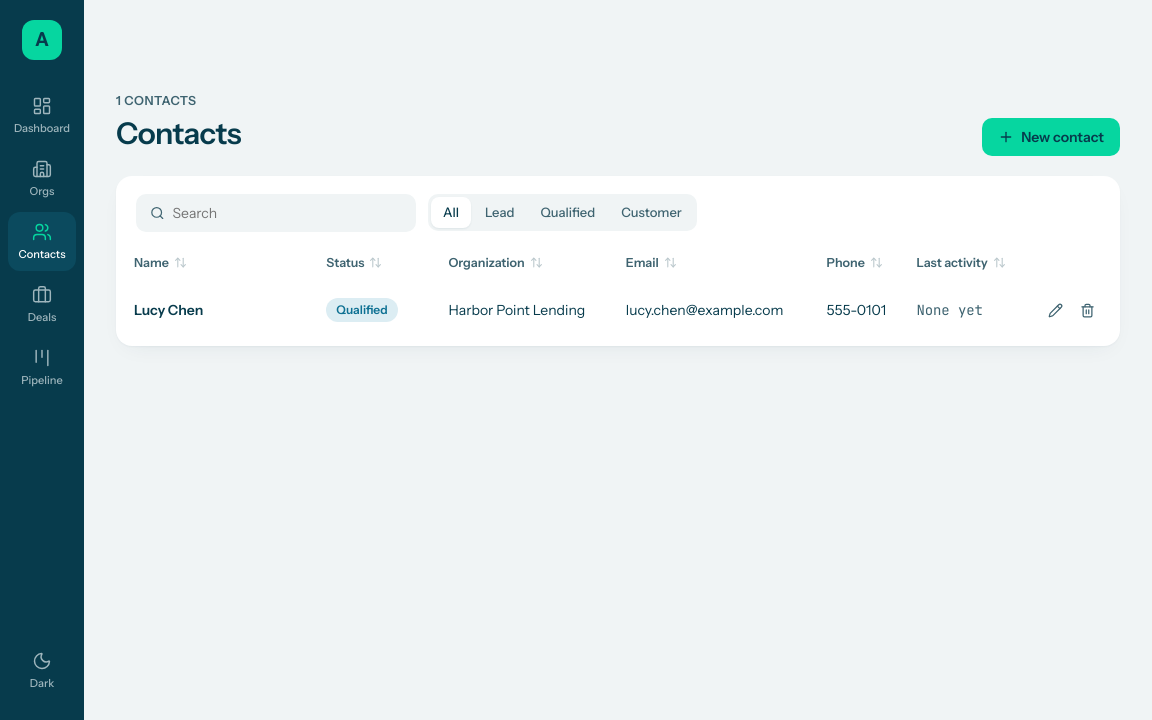
Scenario: the contacts list › tells you when a delete fails
Click the button named "Delete Lucy Chen": (1087, 310) [1072,295,1102,325]
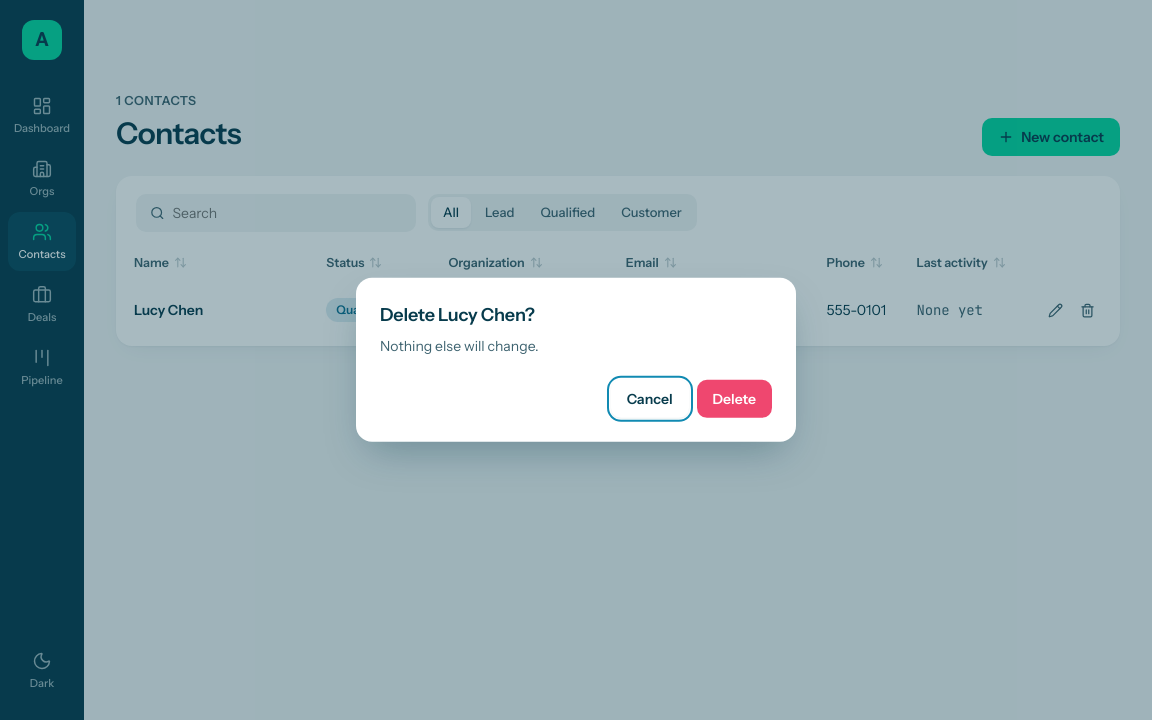
Check: the text "Nothing else will change." is shown, box [380,337,538,355]
Click the button "Delete": (734, 399) [696,380,772,418]
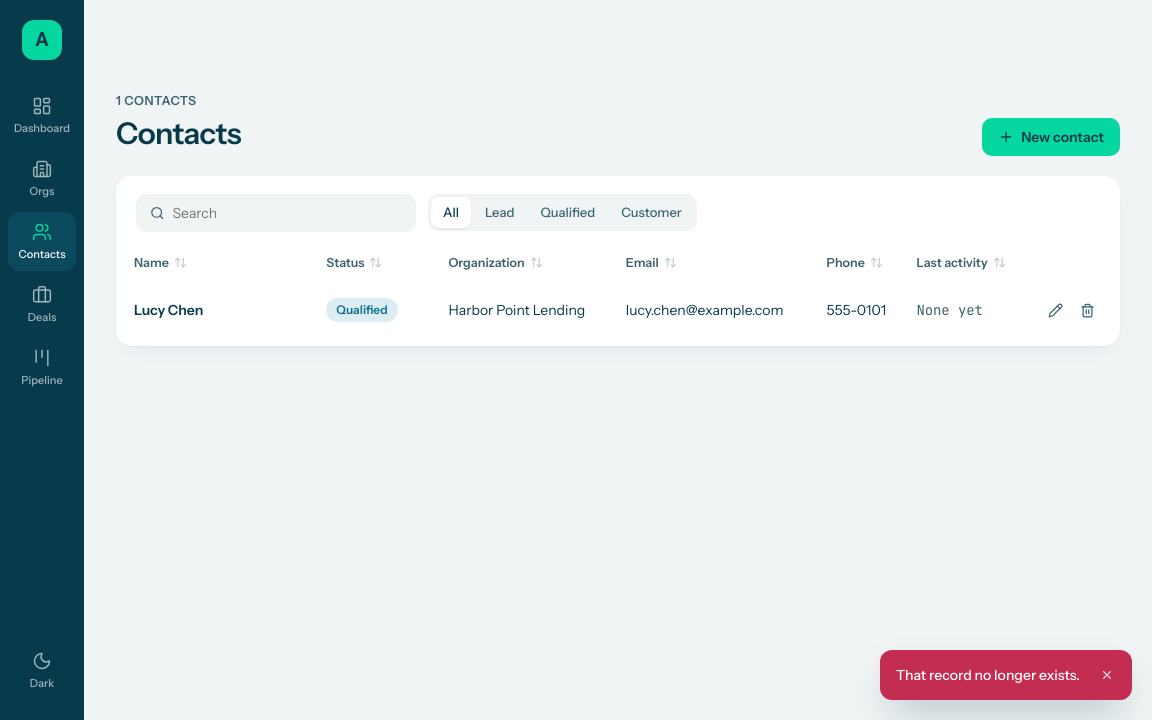
Check: the text "That record no longer exists." is shown, box [896,665,1080,685]
